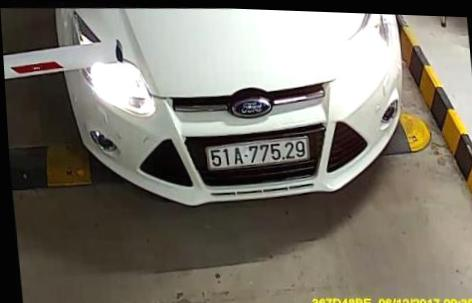License_Plate: (201, 131, 318, 183)
